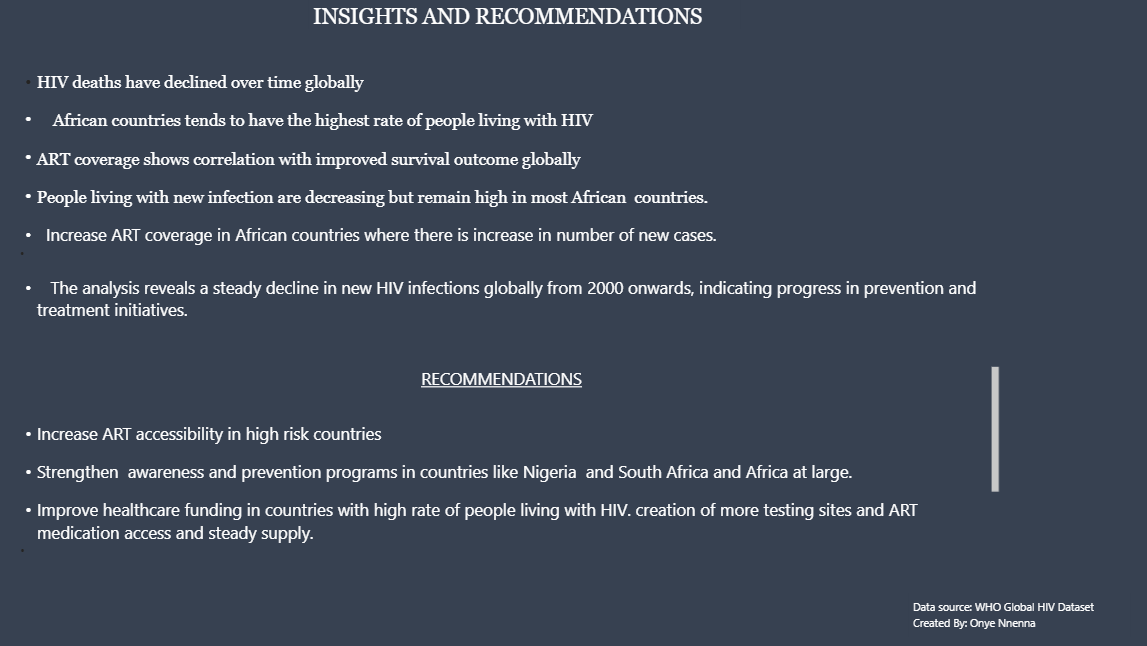

What the dashboard file says about the page in this screenshot:
{"tool":"powerbi","page":{"name":"Recommendation","canvas":[1280,720],"ordinal":2},"visuals":[{"type":"textbox","box":[10,73.3,1106.7,316.7],"z":0},{"type":"textbox","box":[10,403.3,1106.7,240],"z":1000},{"type":"textbox","box":[345,0,480,38.3],"z":3000},{"type":"textbox","box":[1011.7,660,246.7,48.3],"z":5000}]}

Visuals, with their boxes in screenshot pixels (x1, y1, x2, y2), scaled from the page's 1280x720 canvas onto the 1147x646 screenshot:
textbox: box=[9, 66, 1001, 350]
textbox: box=[9, 362, 1001, 577]
textbox: box=[309, 0, 739, 34]
textbox: box=[907, 592, 1128, 636]
